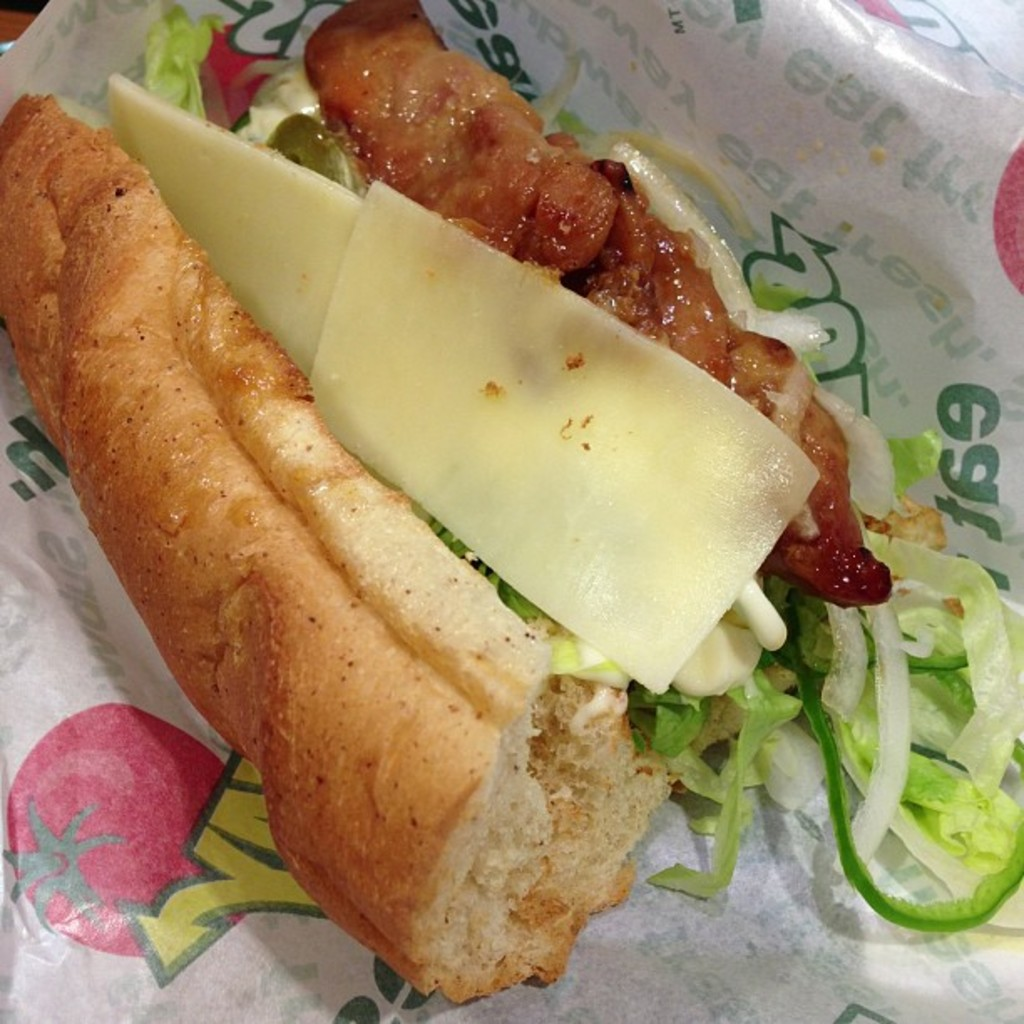hot_dog: (0, 0, 1022, 1004)
